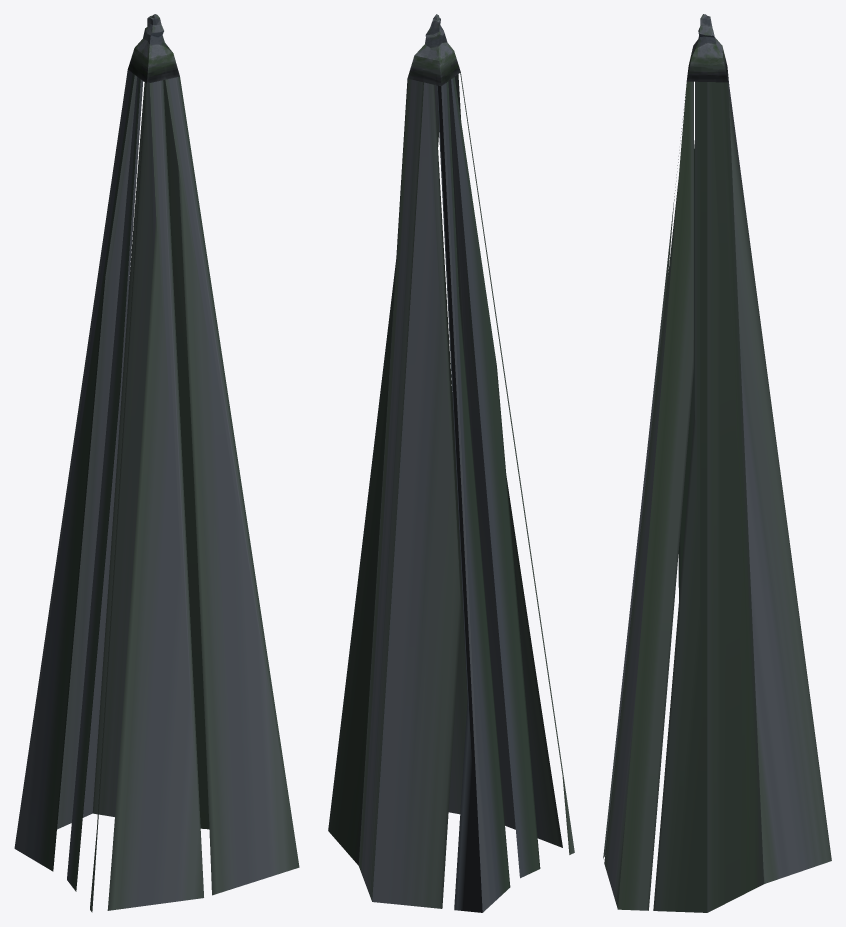
Rendered from Rock1.fbx.
The picture shows the model from 3 angles, left to right: view 1: azimuth 30°, elevation 25°; view 2: azimuth 150°, elevation 25°; view 3: azimuth 270°, elevation 25°; orthographic projection.
Parts seen in each view (by area): view 1: Rock; view 2: Rock; view 3: Rock.
Boxes of the visible parts, bbox=[...] form: Rock: bbox=[14, 14, 299, 912]; Rock: bbox=[328, 14, 574, 912]; Rock: bbox=[603, 14, 831, 912].
Bounding box in the file's own units: 1466 × 5681 × 1392.
Materials: 1 (1 with a texture image).
